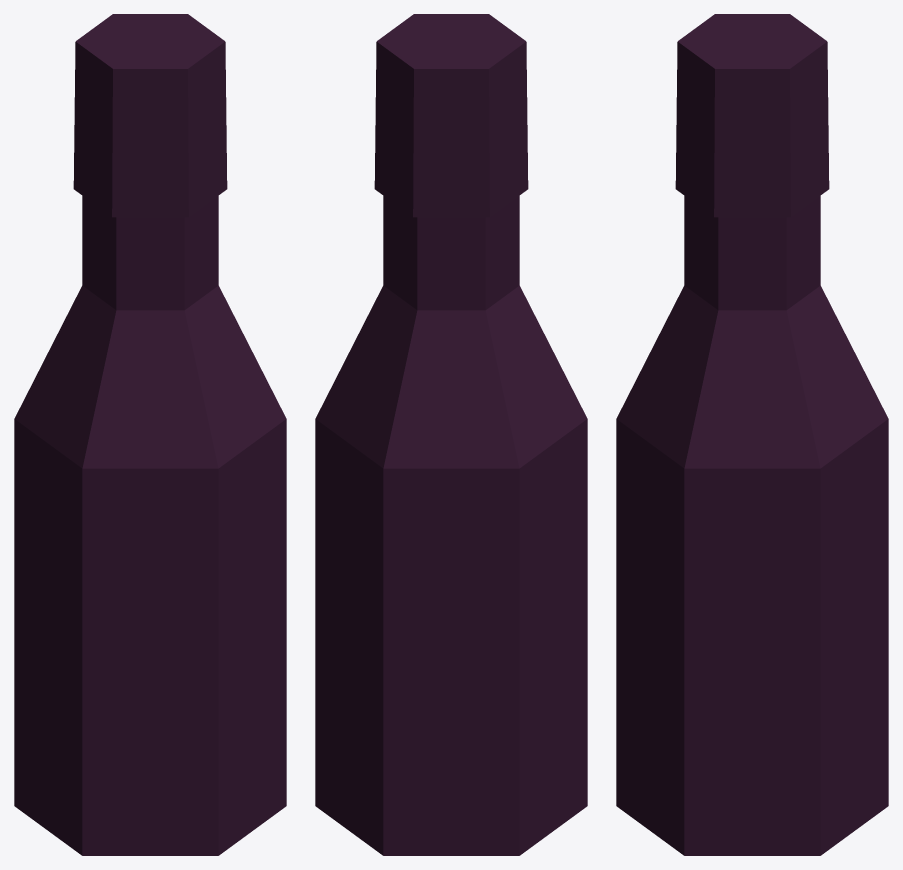
The model's file is Bottle.fbx.
3 renders of one model, left to right at view 1: azimuth 30°, elevation 25°; view 2: azimuth 150°, elevation 25°; view 3: azimuth 270°, elevation 25°, orthographic.
Parts seen in each view (by area): view 1: Bottle; view 2: Bottle; view 3: Bottle.
Boxes of the visible parts, x1,y1,x2,y2 form: Bottle: [14, 14, 286, 855]; Bottle: [315, 14, 587, 855]; Bottle: [616, 14, 888, 855].
Size of the model in its own units: 0.1763 by 0.631 by 0.2035.
